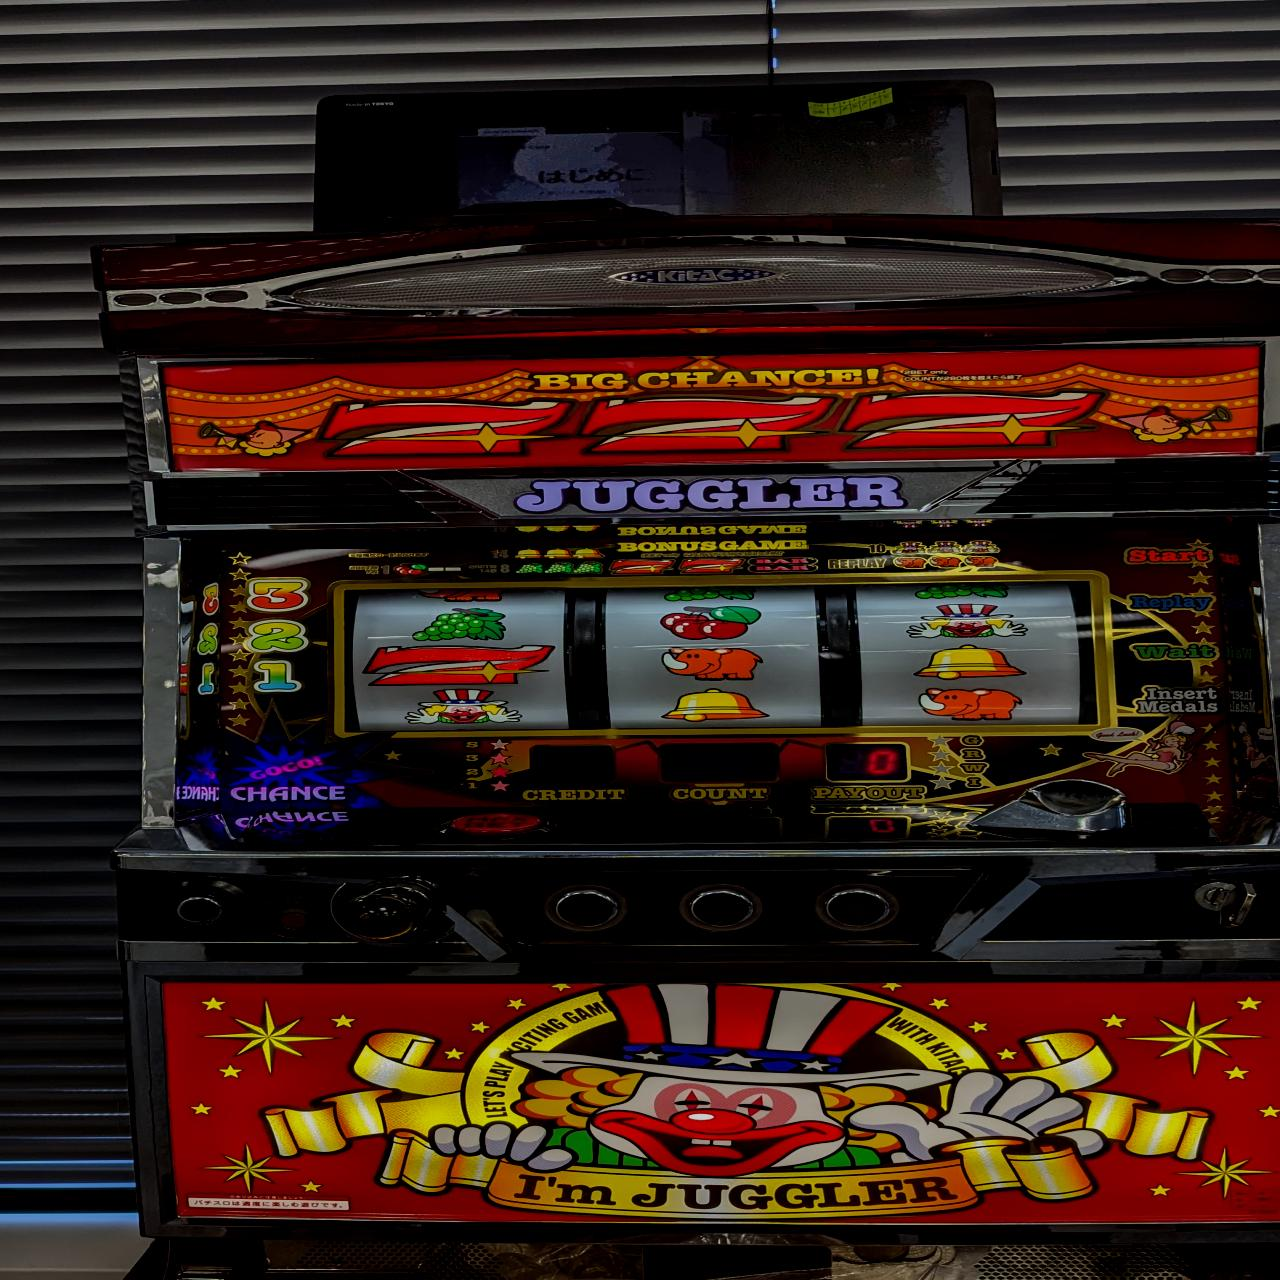Display: (322, 576, 1121, 741)
